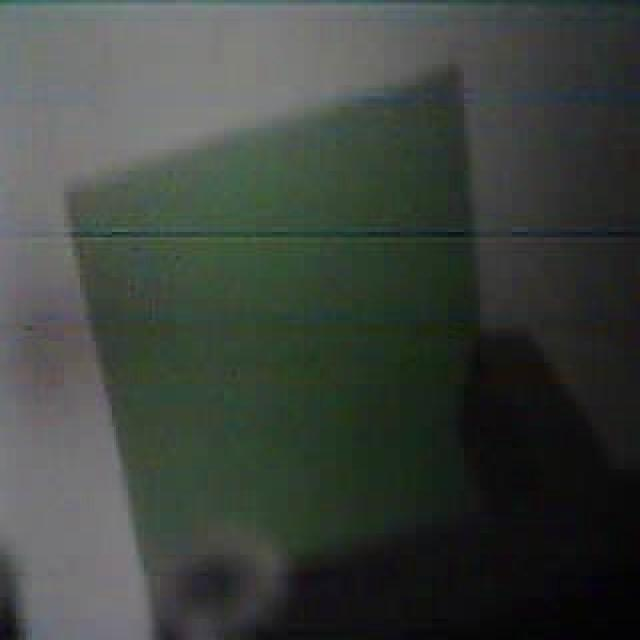green_box: (62, 65, 516, 595)
